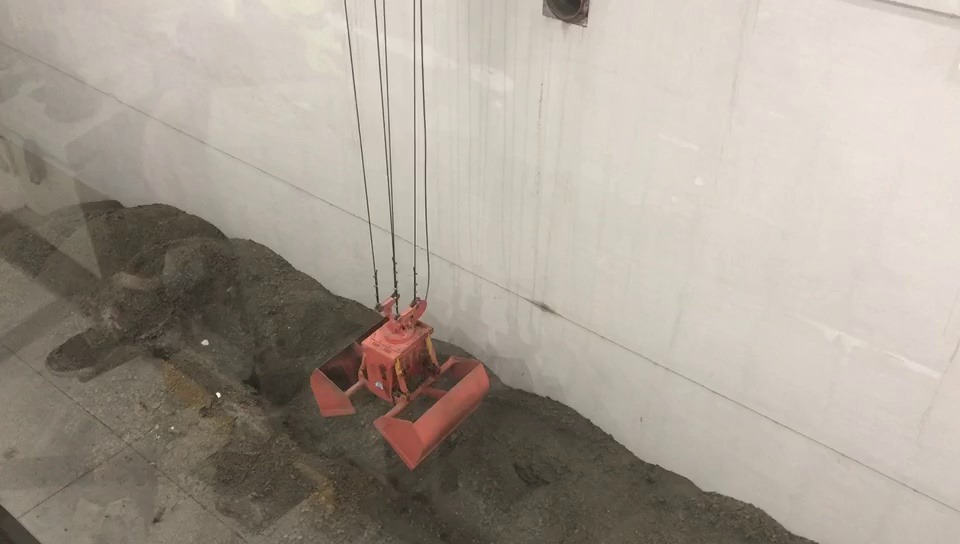grab: (308, 287, 496, 470)
